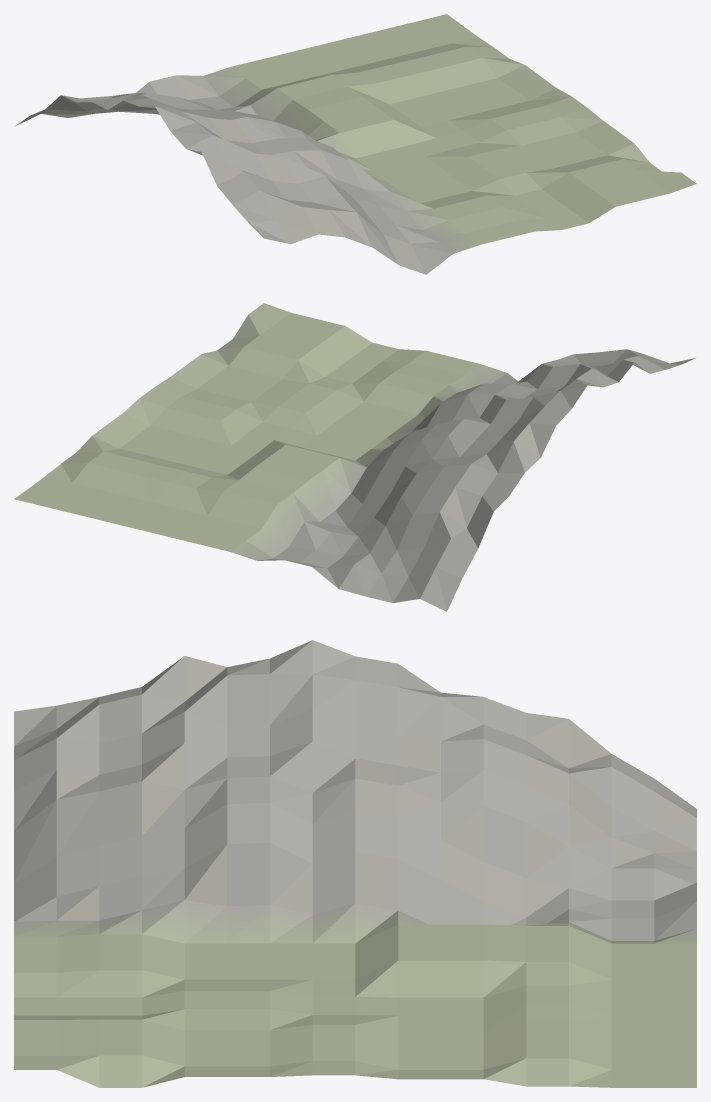
3 renders of one model, top to bottom at view 1: azimuth 30°, elevation 25°; view 2: azimuth 150°, elevation 25°; view 3: azimuth 270°, elevation 25°, orthographic. The views are drawn at different scales.
Bounding box in the file's own units: 32 × 9.06 × 32.
